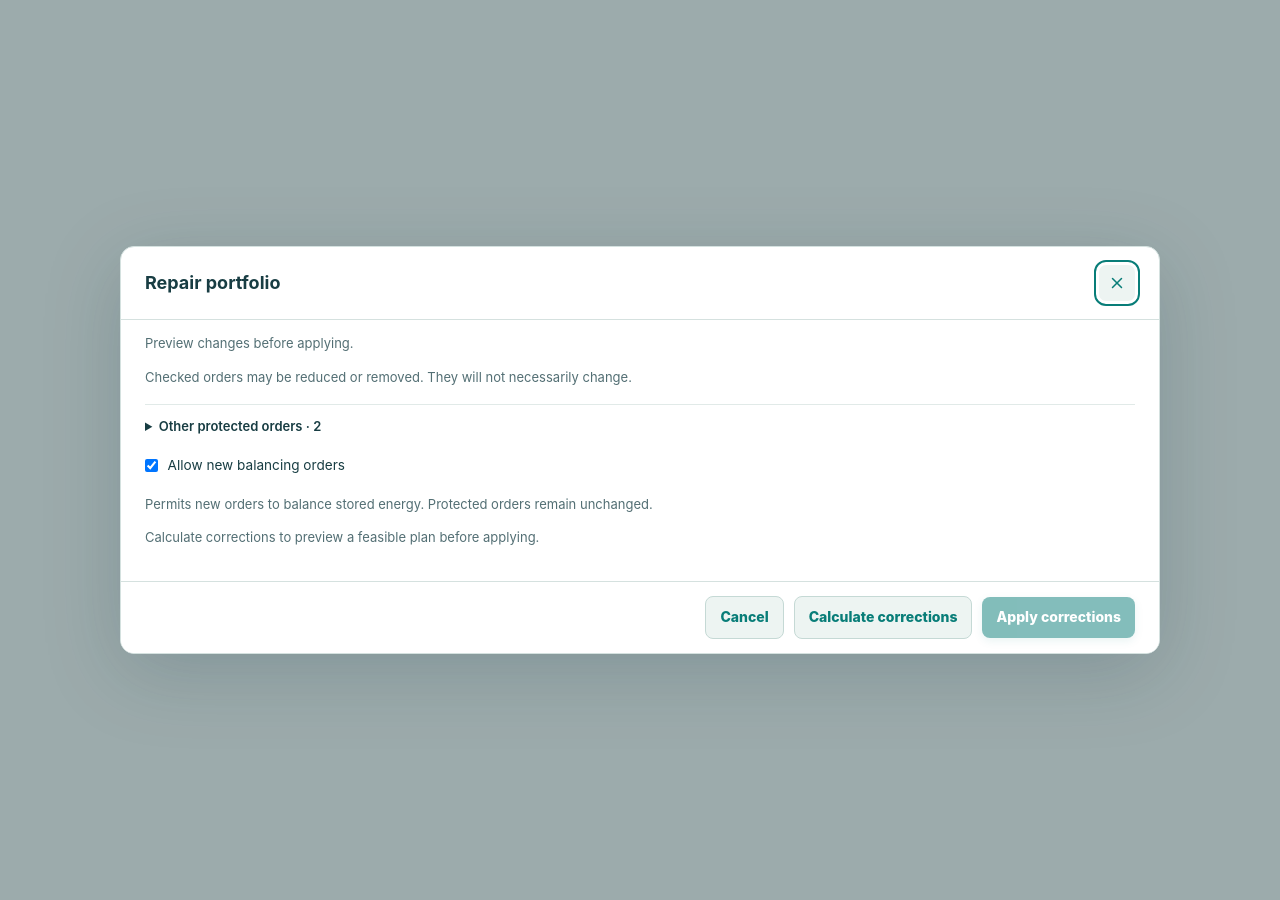
Test: shows the required permission once, collapses other orders and preserves evidence after changes
What coordinates should you click on to do the following:
click the button "Calculate corrections"
I would click on:
 (883, 617)
Its box is x1=794 y1=596 x2=972 y2=638.
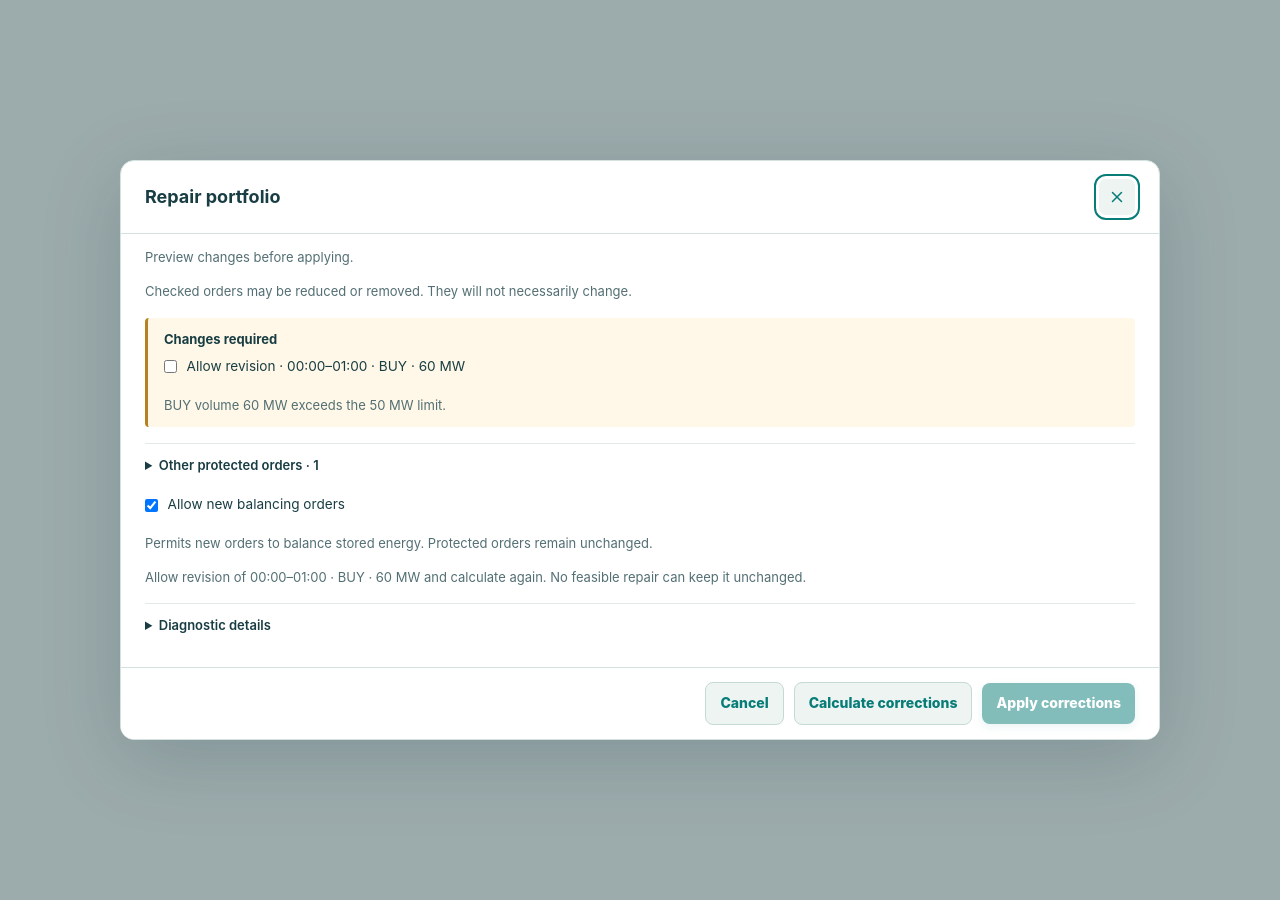
Expected: the element "Changes required" is shown, x1=145 y1=318 x2=1135 y2=427
Expected: the message shows "No feasible repair can keep it unchanged", x1=145 y1=569 x2=806 y2=585
Expected: the number of checkboxes labelled "Allow revision · 00:00–01:00 · BUY · 60 MW" is 2
What coordinates should you click on to do the following:
click the checkbox labelled "Allow revision · 00:00–01:00 · BUY · 60 MW"
I would click on:
 (170, 367)
Its box is x1=164 y1=360 x2=177 y2=373.
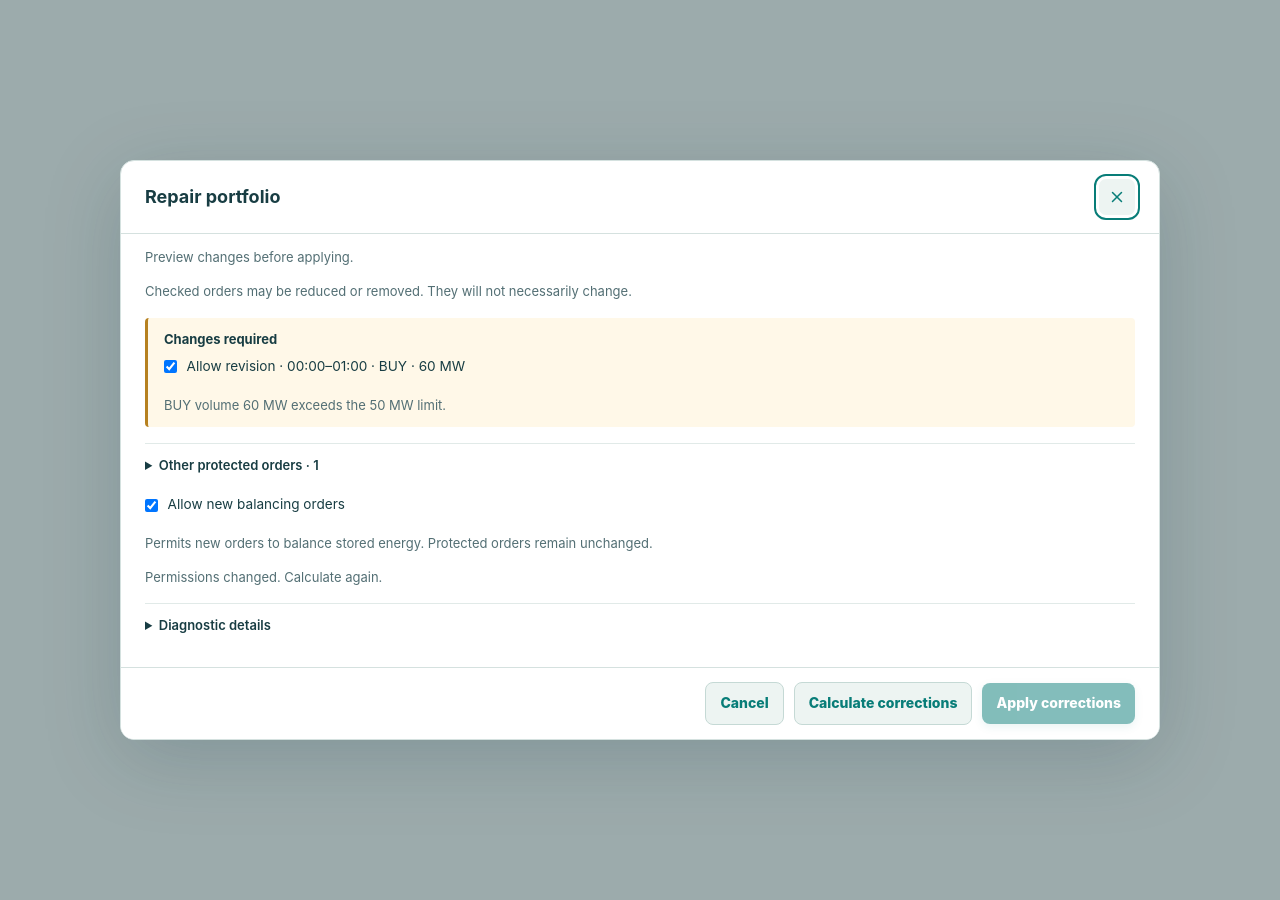
Expected: the button "Apply corrections" is disabled, x1=982 y1=683 x2=1135 y2=724
Expected: the element "Changes required" is shown, x1=145 y1=318 x2=1135 y2=427
Expected: the message reads "Permissions changed. Calculate again.", x1=145 y1=569 x2=382 y2=585
